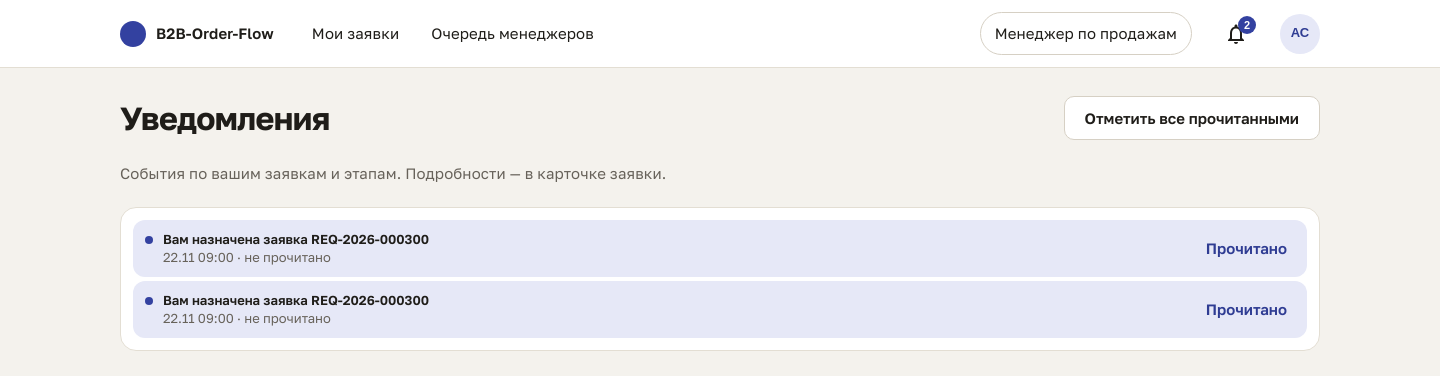
it: UI-14. Экран уведомлений › «Отметить все прочитанными» снимает выделение и обнуляет счётчик
The width and height of the screenshot is (1440, 376).
Expected: the text with test id "notifications-badge" reads "2", x1=1244 y1=18 x2=1250 y2=30
Click the button with test id "action-read-all": (1192, 118) x1=1064 y1=96 x2=1320 y2=140
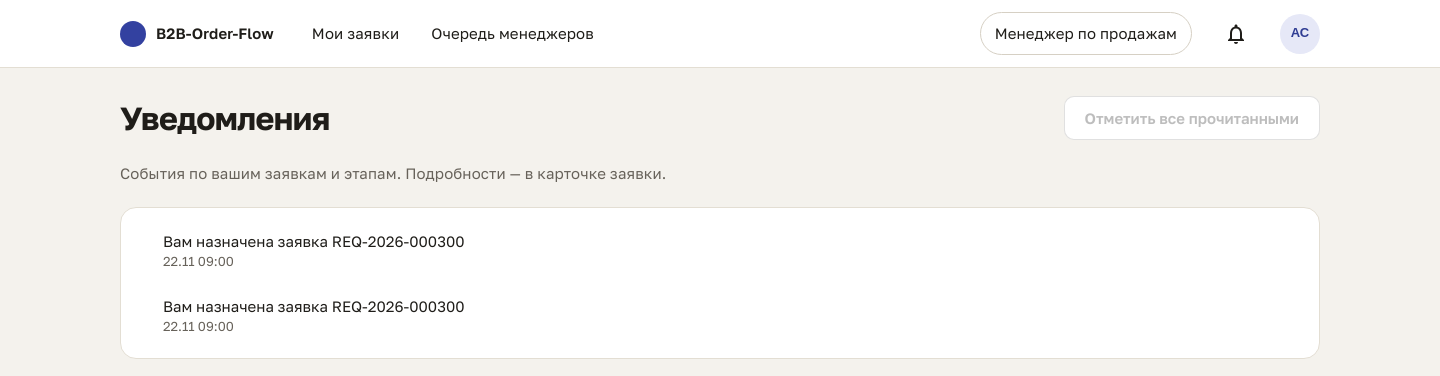
Now the text with test id "notifications-badge" is gone
Now the button with test id "action-read-all" is disabled, box x1=1064 y1=96 x2=1320 y2=140
